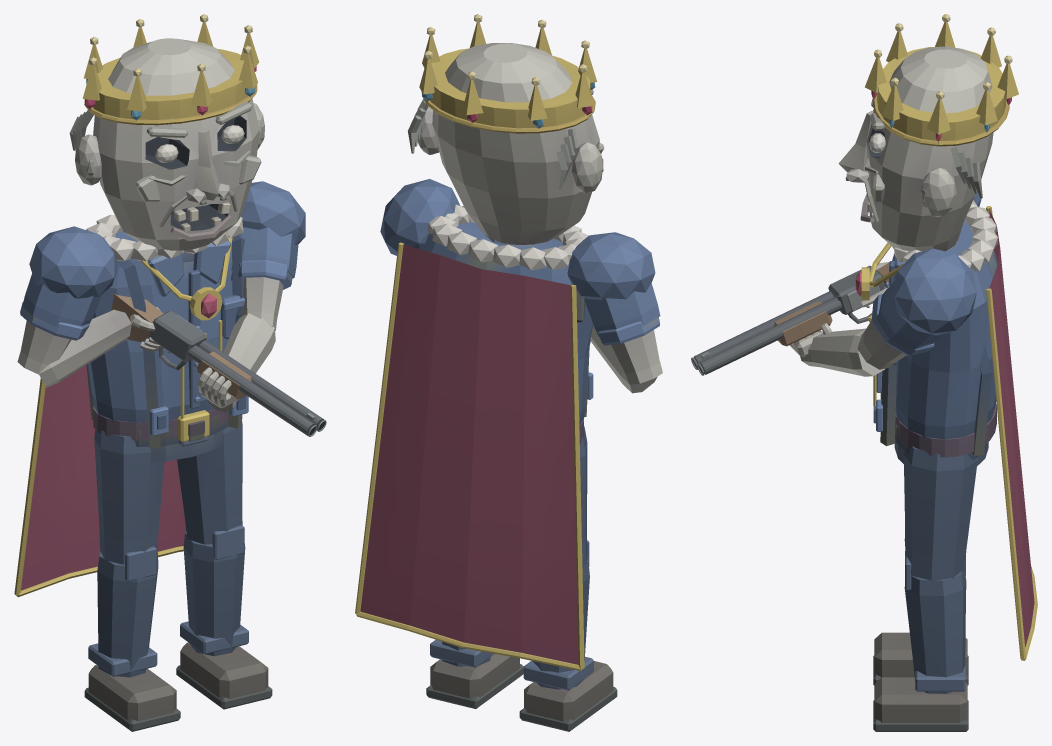
The model's file is GrandfatherKing.glb.
3 views of the same model, side by side, from view 1: azimuth 30°, elevation 25°; view 2: azimuth 150°, elevation 25°; view 3: azimuth 270°, elevation 25° (orthographic).
Visible parts, largest first — view 1: Body, Head, LegR, LegL, ArmR, ArmL; view 2: Body, Head, ArmR, LegR, LegL, ArmL; view 3: Body, Head, LegL, ArmL, LegR.
Part boxes in pixels (x1,y1,x2,y2): Body: (14, 214, 326, 596); Head: (69, 14, 264, 250); LegR: (84, 429, 180, 731); LegL: (176, 421, 272, 709); ArmR: (17, 226, 161, 387); ArmL: (198, 181, 305, 412); Body: (355, 204, 593, 671); Head: (408, 14, 604, 244); ArmR: (567, 232, 662, 393); LegR: (519, 426, 617, 731); LegL: (426, 639, 523, 708); ArmL: (380, 179, 460, 255); Body: (691, 200, 1037, 660); Head: (838, 14, 1018, 251); LegL: (873, 446, 977, 731); ArmL: (789, 248, 976, 376); LegR: (873, 529, 968, 685).
Size of the model in its own units: 2.76 by 6.24 by 3.02.
